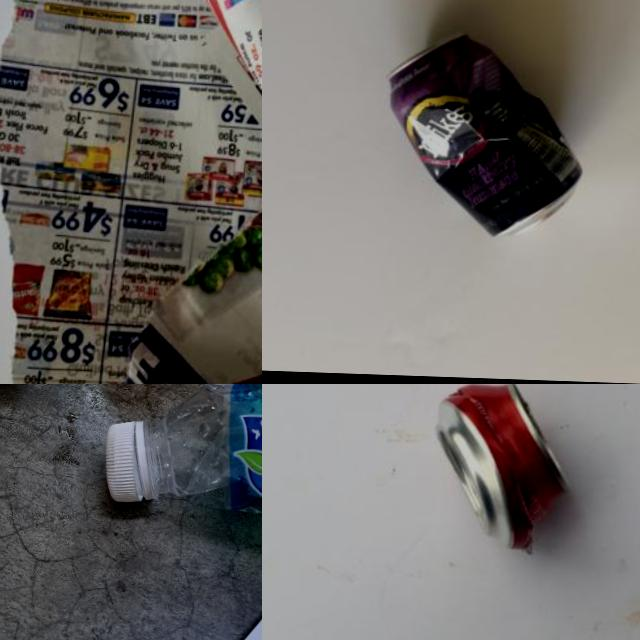lata: (384, 27, 586, 242), (428, 384, 572, 550)
papel: (0, 0, 262, 384), (204, 511, 262, 640)
tampa plástica: (145, 384, 262, 523), (105, 421, 146, 502)
